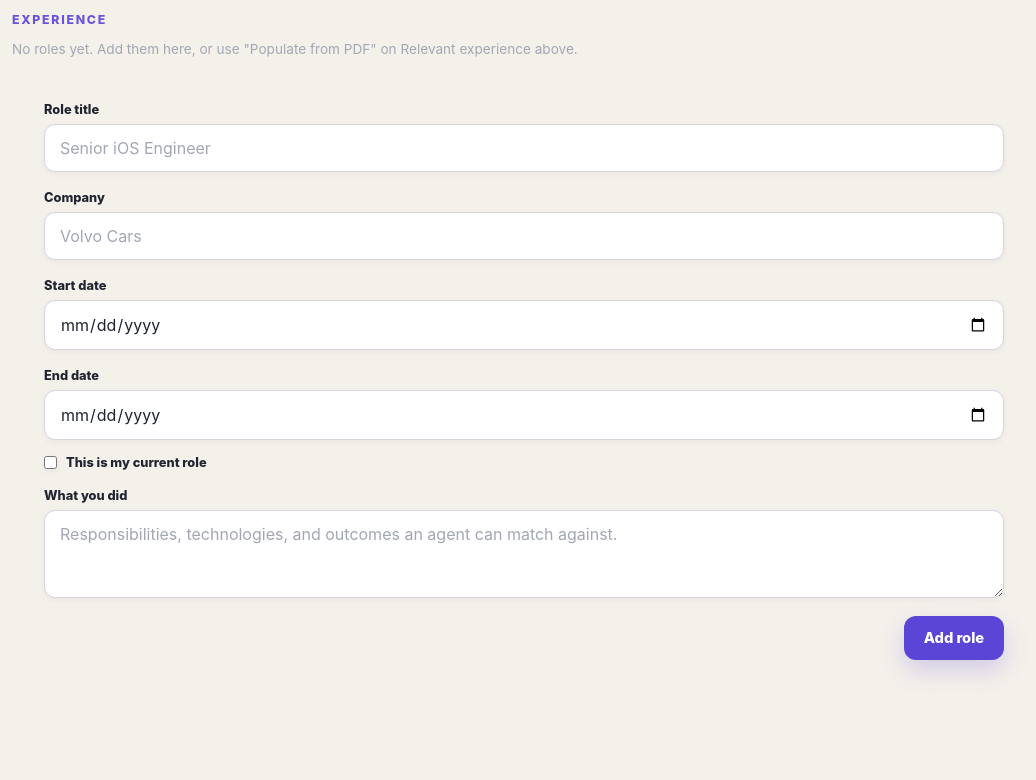
ExperienceEditor › clears and disables the end date when the role is marked current
Type "2025-01-01" into the date field labelled "End date" at [524, 415], box [44,390,1004,440]
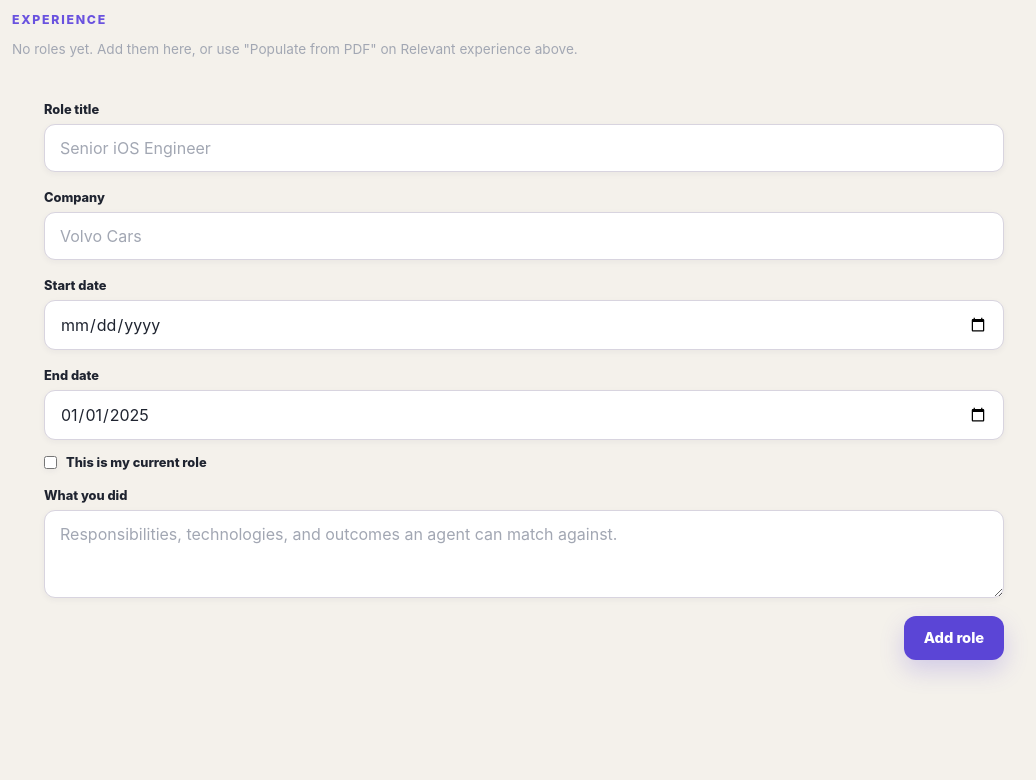
Click the checkbox labelled "This is my current role" at [50, 463], box [44,456,57,469]
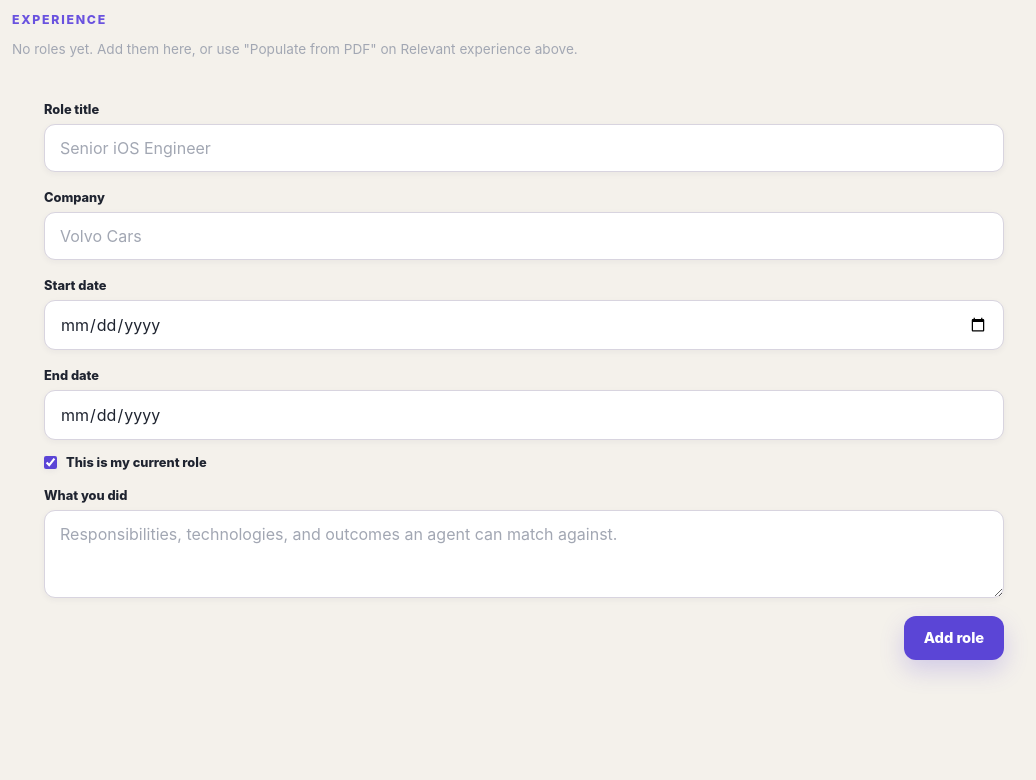
Result: the date field labelled "End date" is empty at [44,390,1004,440]
Result: the date field labelled "End date" is disabled at [44,390,1004,440]
